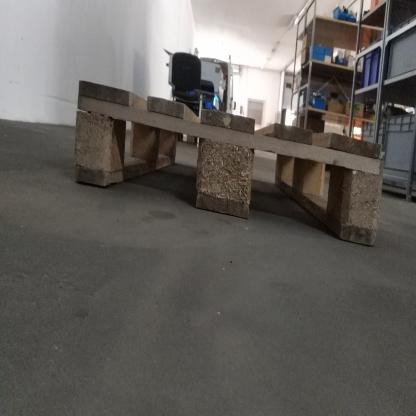BoxFace: (68, 75, 391, 248)
